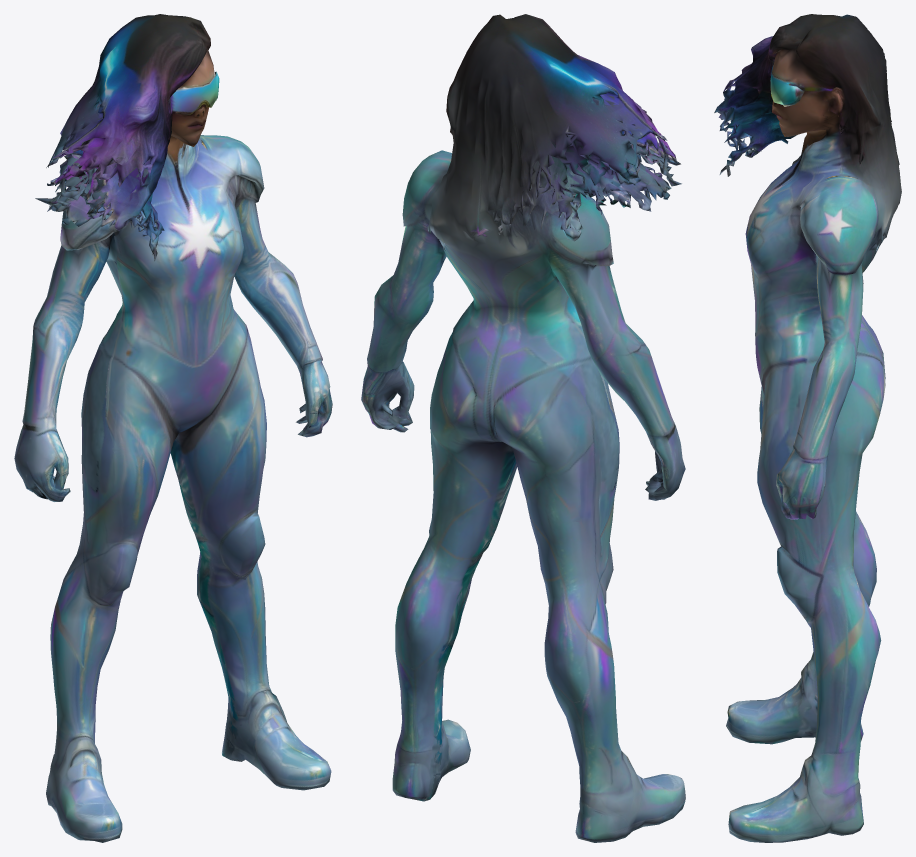
The model's file is herolumewoman.glb.
3 views of the same model, side by side, from view 1: azimuth 30°, elevation 25°; view 2: azimuth 150°, elevation 25°; view 3: azimuth 270°, elevation 25° (orthographic). The views are drawn at different scales.
Bounding box in the file's own units: 0.841 × 2 × 0.4435.
1 material, 1 textured.
